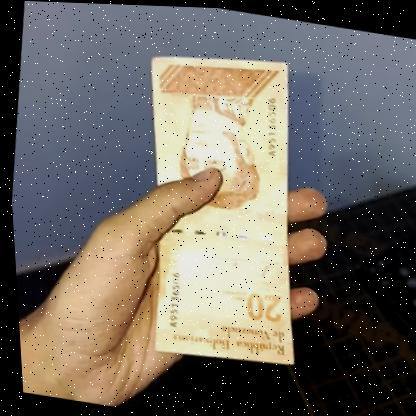twenty-front-vef: (118, 34, 326, 373)
